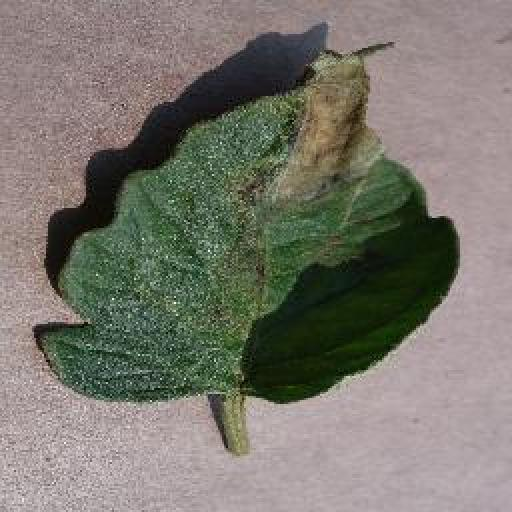Late Blight: (32, 39, 463, 408)
